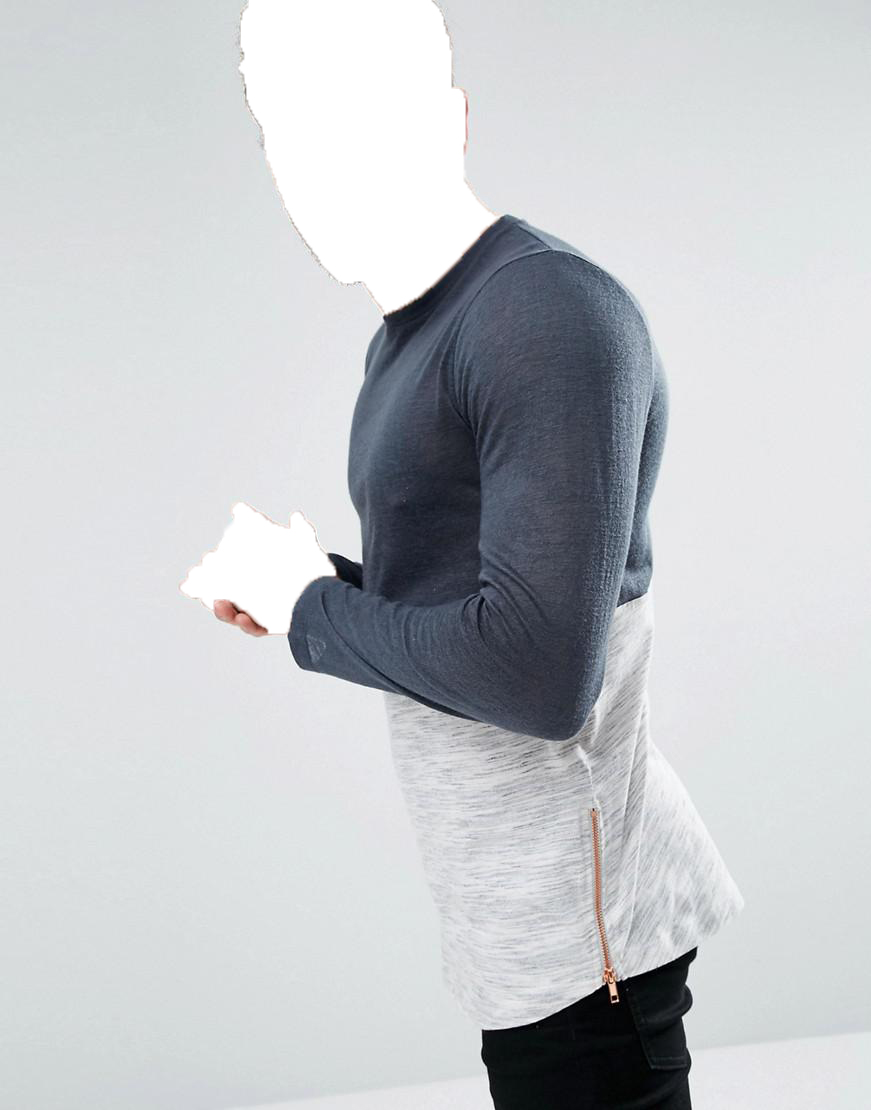teeshirt: (276, 213, 766, 1020)
